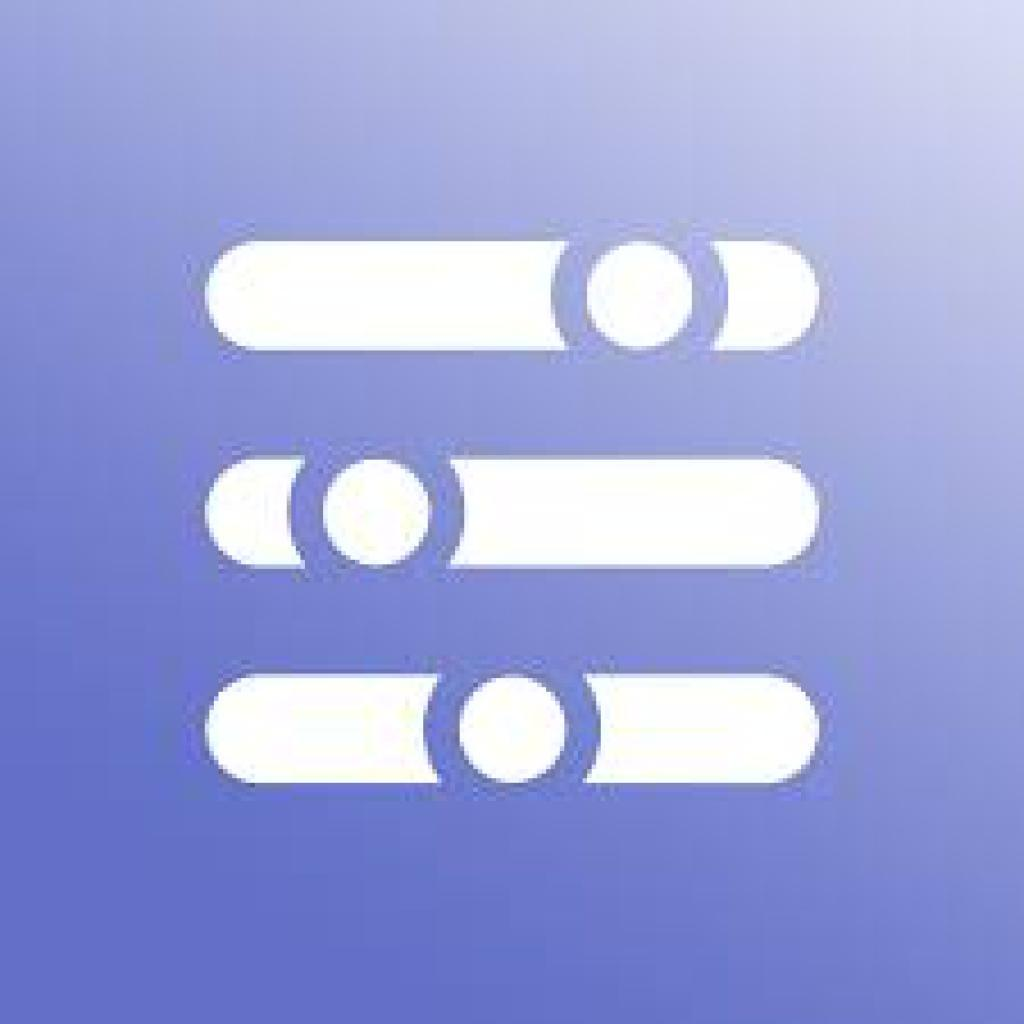slider: (206, 650, 827, 811), (208, 227, 823, 384), (208, 443, 818, 598)
